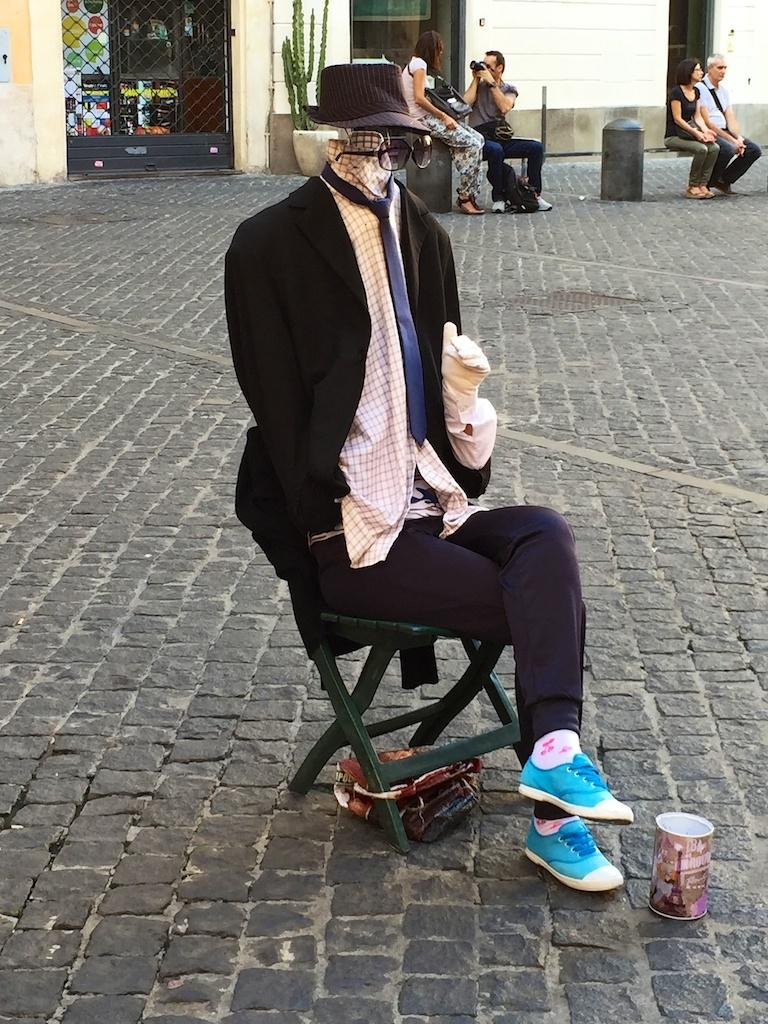Hat: (305, 61, 431, 133)
